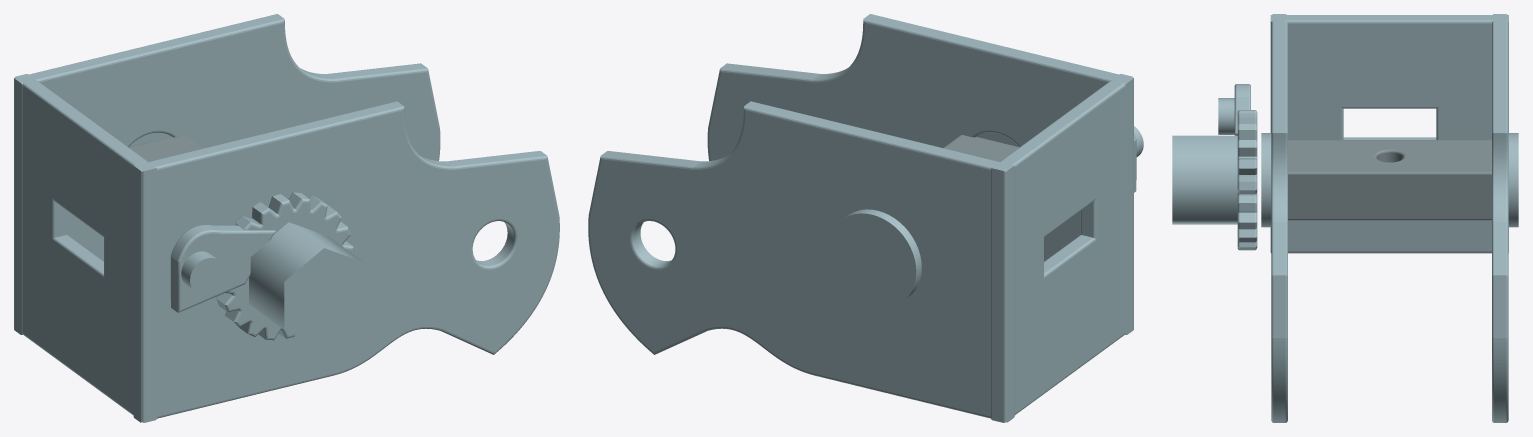
The model's file is catraca_micro.glb.
3 views of the same model, side by side, from view 1: azimuth 30°, elevation 25°; view 2: azimuth 150°, elevation 25°; view 3: azimuth 270°, elevation 25° (orthographic). The views are drawn at different scales.
Parts seen in each view (by area): view 1: Chapa lateral frontal com furo de fixação, Chapa lateral traseira com furo de fixação, Dobra traseira com rasgo para arame, Cabeça sextavada de acionamento, Roda dentada de retenção, Lingueta de trava, Rebite da lingueta, Eixo com perfuração transversal; view 2: Chapa lateral traseira com furo de fixação, Chapa lateral frontal com furo de fixação, Dobra traseira com rasgo para arame, Mancal traseiro, Eixo com perfuração transversal; view 3: Dobra traseira com rasgo para arame, Eixo com perfuração transversal, Chapa lateral traseira com furo de fixação, Chapa lateral frontal com furo de fixação, Cabeça sextavada de acionamento, Roda dentada de retenção, Mancal frontal, Mancal traseiro, Rebite da lingueta, Lingueta de trava.
Part boxes in pixels (bbox=[...]): Chapa lateral frontal com furo de fixação: bbox=[133, 101, 559, 422]; Chapa lateral traseira com furo de fixação: bbox=[14, 14, 440, 334]; Dobra traseira com rasgo para arame: bbox=[14, 74, 156, 422]; Cabeça sextavada de acionamento: bbox=[249, 222, 363, 343]; Roda dentada de retenção: bbox=[216, 192, 353, 340]; Lingueta de trava: bbox=[170, 225, 275, 312]; Rebite da lingueta: bbox=[181, 251, 224, 294]; Eixo com perfuração transversal: bbox=[128, 135, 204, 161]; Chapa lateral traseira com furo de fixação: bbox=[588, 101, 1014, 422]; Chapa lateral frontal com furo de fixação: bbox=[707, 14, 1133, 334]; Dobra traseira com rasgo para arame: bbox=[991, 74, 1133, 422]; Mancal traseiro: bbox=[828, 209, 921, 308]; Eixo com perfuração transversal: bbox=[943, 135, 1019, 161]; Dobra traseira com rasgo para arame: bbox=[1270, 15, 1508, 253]; Eixo com perfuração transversal: bbox=[1288, 140, 1491, 220]; Chapa lateral traseira com furo de fixação: bbox=[1492, 14, 1508, 422]; Chapa lateral frontal com furo de fixação: bbox=[1271, 14, 1287, 422]; Cabeça sextavada de acionamento: bbox=[1172, 135, 1237, 224]; Roda dentada de retenção: bbox=[1237, 110, 1257, 250]; Mancal frontal: bbox=[1261, 133, 1271, 227]; Mancal traseiro: bbox=[1508, 133, 1518, 227]; Rebite da lingueta: bbox=[1218, 98, 1234, 134]; Lingueta de trava: bbox=[1234, 84, 1250, 135].
Size of the model in its own units: 0.073 by 0.045 by 0.0565.
